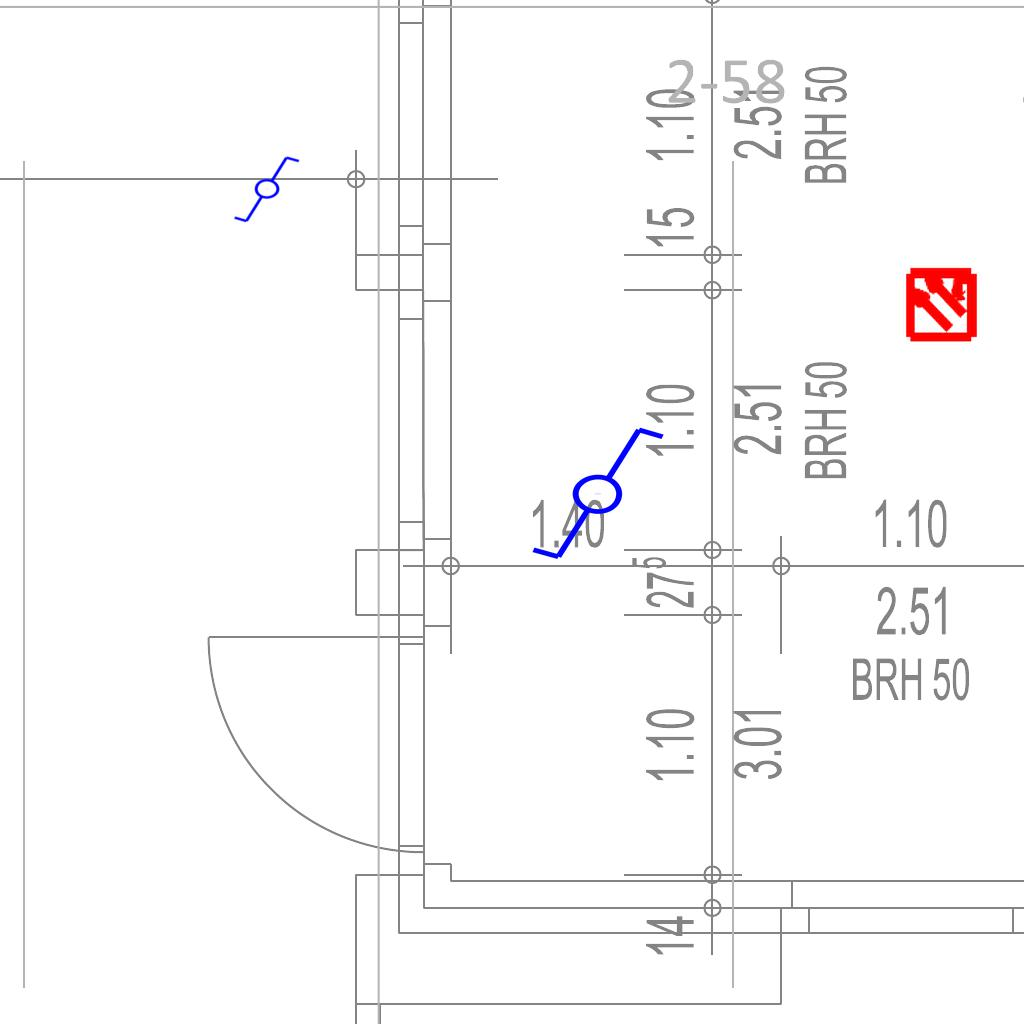OT_Multisensormelder_(Kombination_RMO_WMD): (885, 246, 998, 359)
Wechselschalter: (511, 420, 668, 564), (232, 154, 310, 226)
